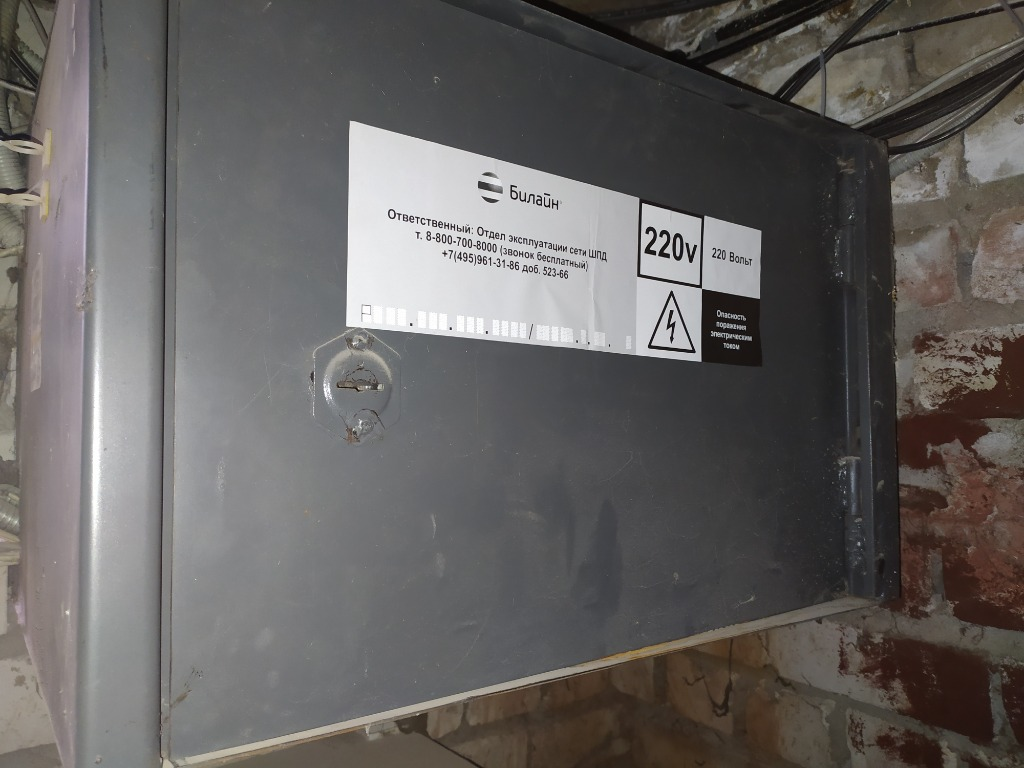e2-6u: (11, 5, 907, 762)
